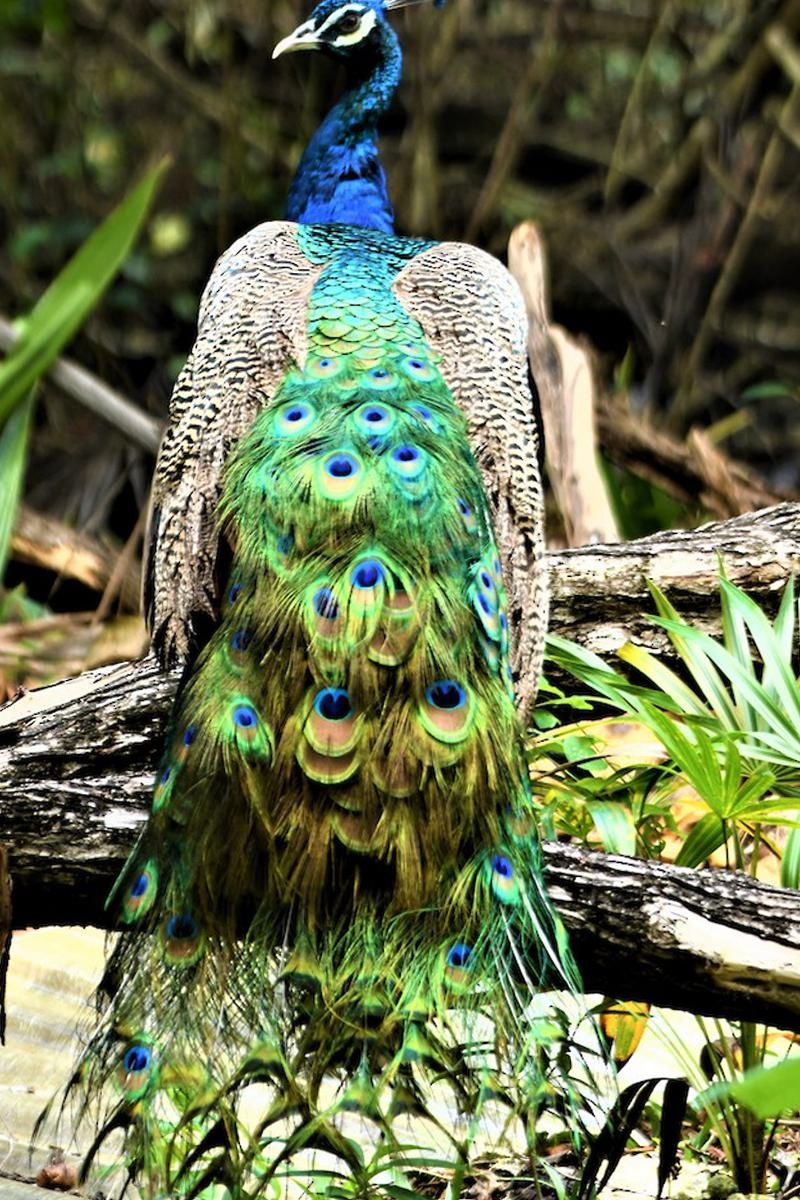peacock: (120, 46, 585, 1180)
